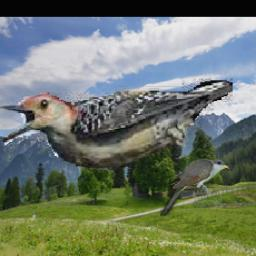Cuckoo: (160, 158, 229, 216)
Woodpecker: (0, 78, 234, 170)
